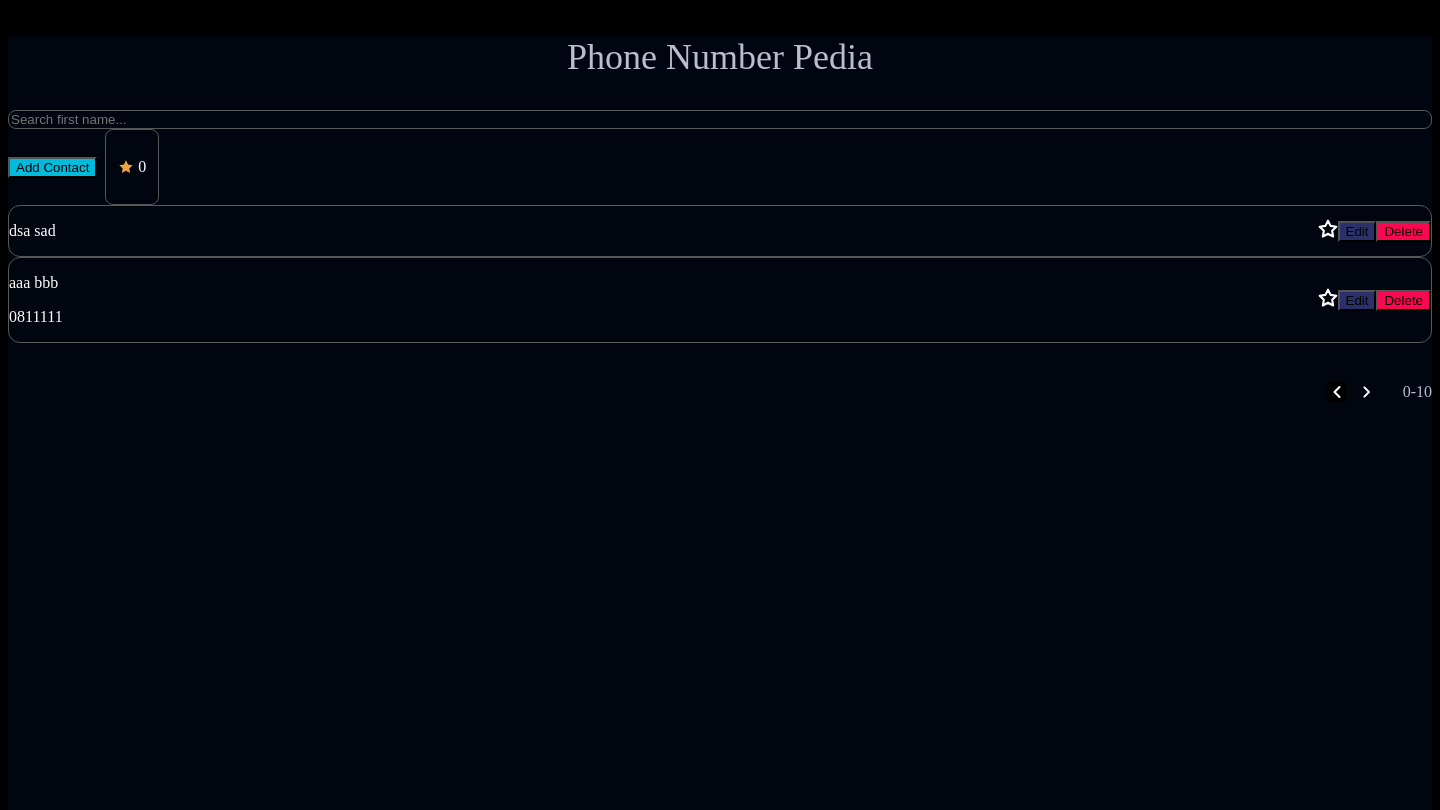
contact › when add contact to favorites list, contact should be removed from contact list, and appears in favorite modal
Click the icon with test id "favorite-dsa" at (1328, 229), box [1318,219,1338,239]
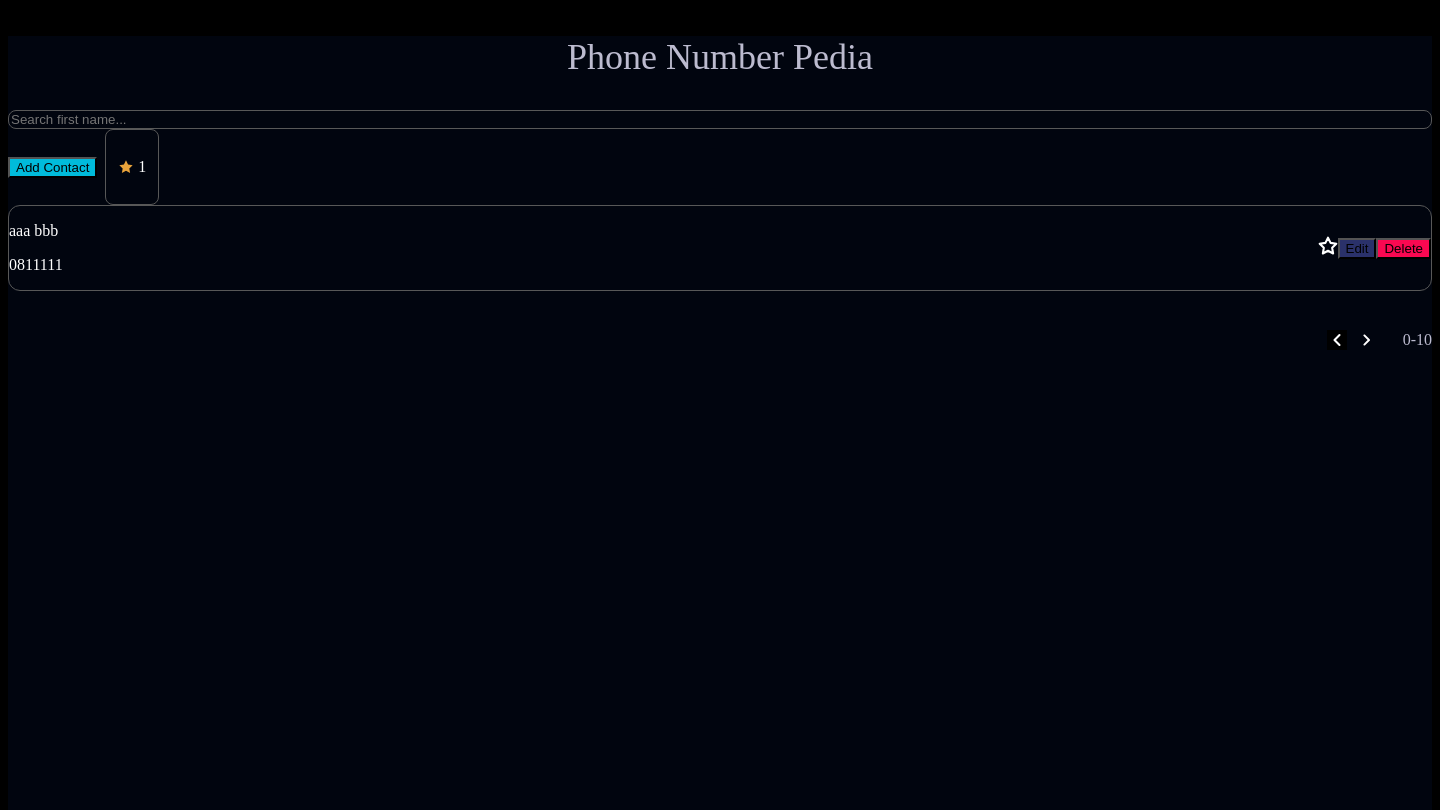
Result: the text "dsa sad" is gone
Click the icon with test id "favorite-undefined" at (126, 167), box [118,159,134,175]
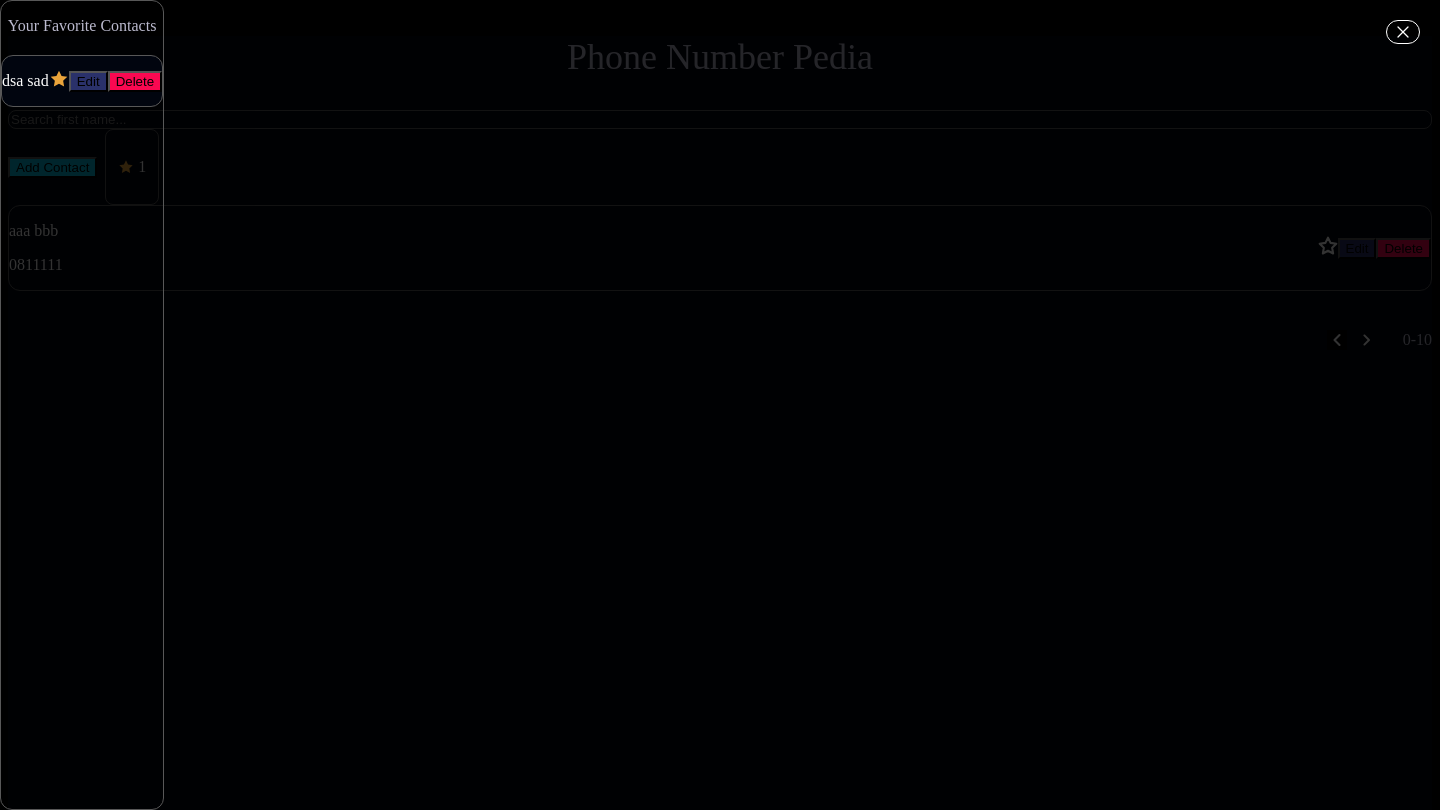
Result: the text "Your Favorite Contacts" is shown at [1,17,163,35]
Result: the text "dsa sad" is shown at [2,72,49,90]
